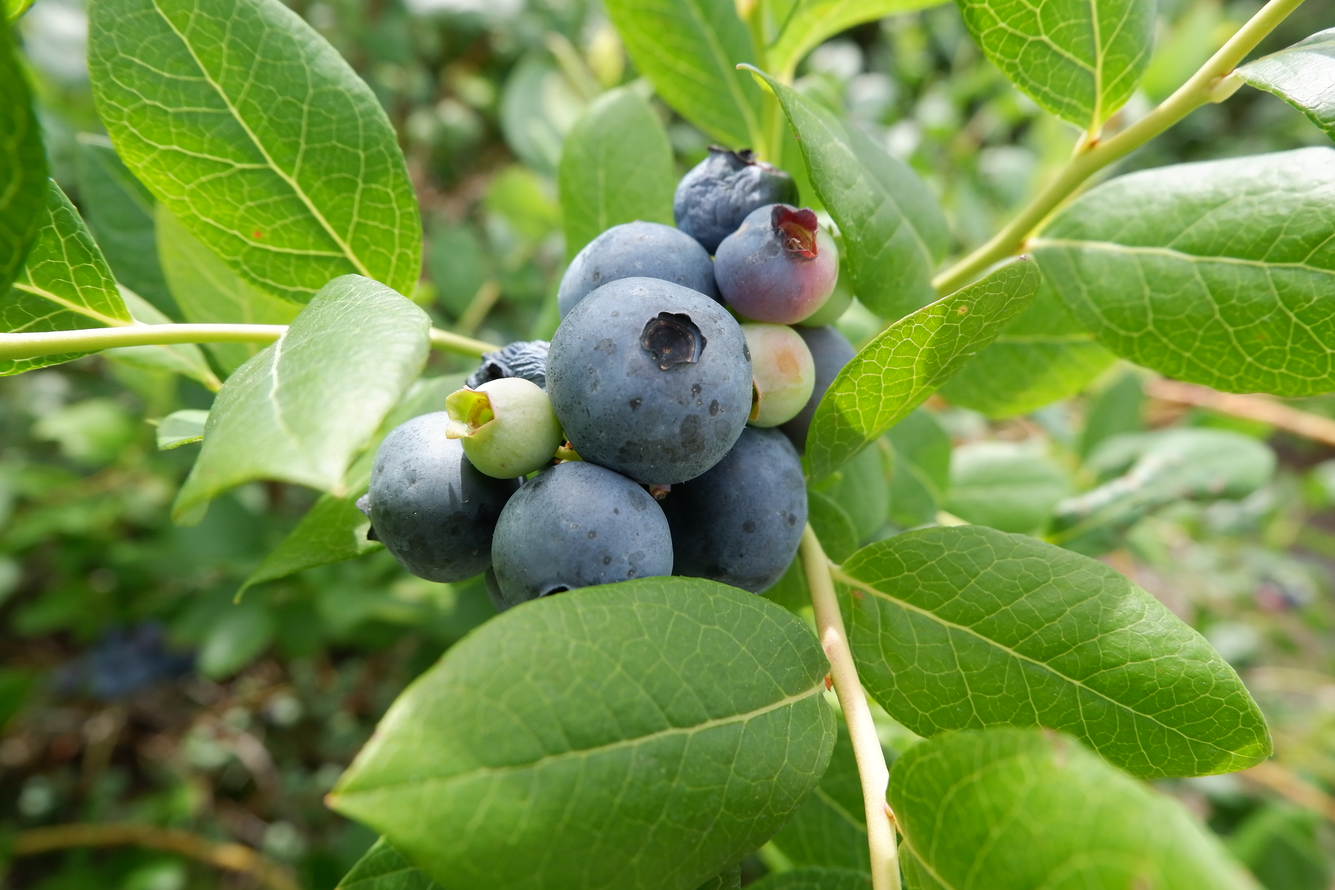Immature: (715, 205, 841, 323), (446, 380, 559, 475), (742, 321, 811, 425), (810, 263, 854, 326)
Mature: (547, 280, 751, 481), (363, 412, 518, 581), (492, 462, 671, 601), (661, 429, 804, 591), (558, 224, 717, 324), (675, 151, 800, 249), (778, 325, 853, 455), (467, 342, 547, 388)
